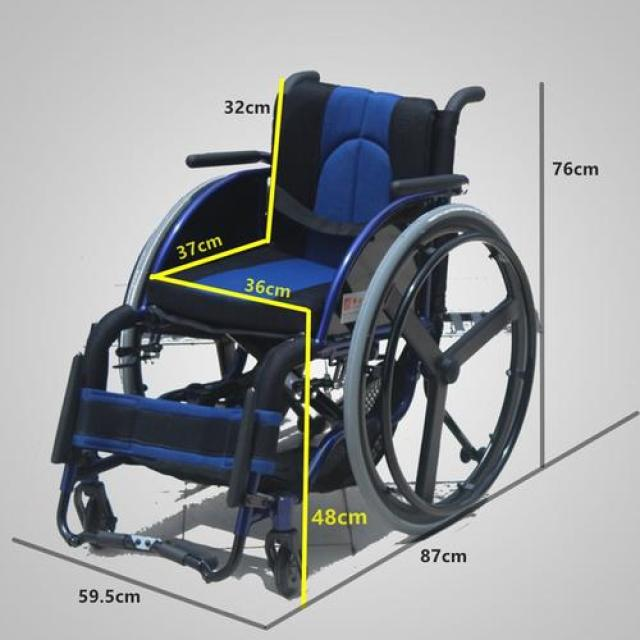wheelchairs: (42, 62, 543, 609)
